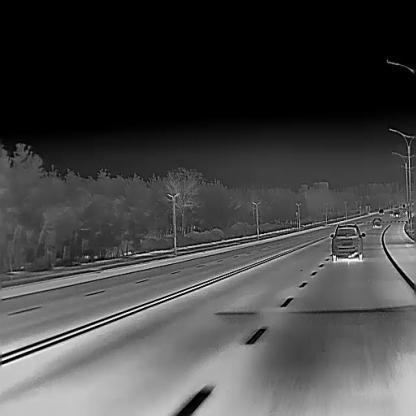car: (330, 222, 366, 260), (372, 217, 381, 227), (395, 212, 399, 216), (379, 209, 383, 213), (390, 211, 393, 215)
